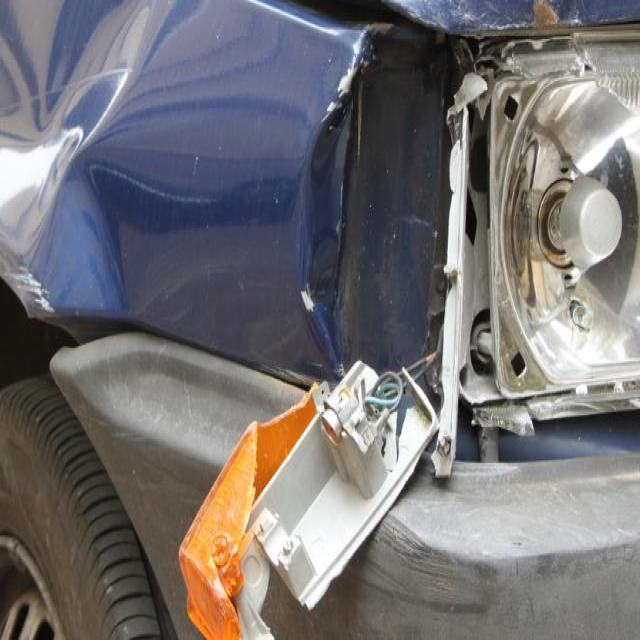Dent: (0, 61, 135, 144), (546, 80, 638, 182), (389, 565, 492, 616), (486, 34, 570, 76), (344, 22, 383, 104), (6, 262, 55, 315), (262, 358, 335, 393), (448, 70, 487, 121), (586, 45, 638, 78), (567, 33, 594, 72), (335, 69, 354, 100), (300, 285, 315, 310), (614, 147, 626, 168), (334, 360, 345, 376), (574, 382, 587, 394), (104, 584, 112, 596)
